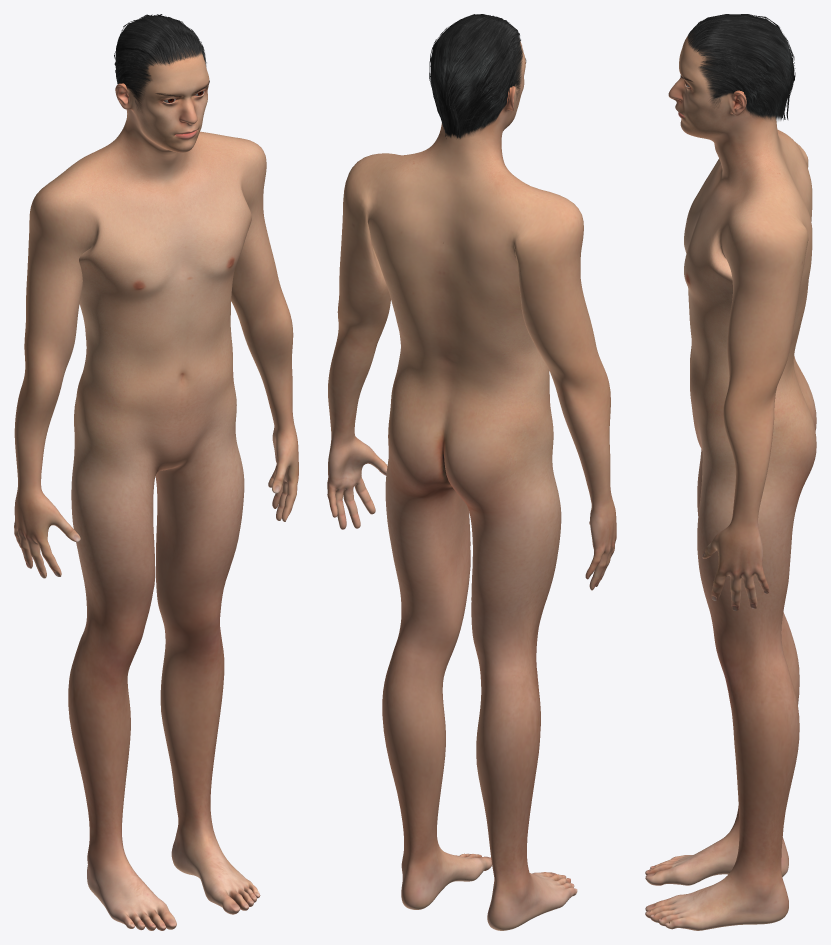
File: skin-web.glb
3 renders of one model, left to right at view 1: azimuth 30°, elevation 25°; view 2: azimuth 150°, elevation 25°; view 3: azimuth 270°, elevation 25°, orthographic.
Visible parts, largest first — view 1: Male skin, short04; view 2: Male skin, short04; view 3: Male skin, short04.
Part boxes in pixels (x1,y1,x2,y2): Male skin: [14, 51, 298, 930]; short04: [114, 14, 206, 109]; Male skin: [327, 41, 616, 930]; short04: [429, 14, 522, 138]; Male skin: [645, 35, 816, 930]; short04: [687, 14, 795, 120].
Bounding box in the file's own units: 0.5717 × 1.72 × 0.3035.
4 materials, 4 textured.
